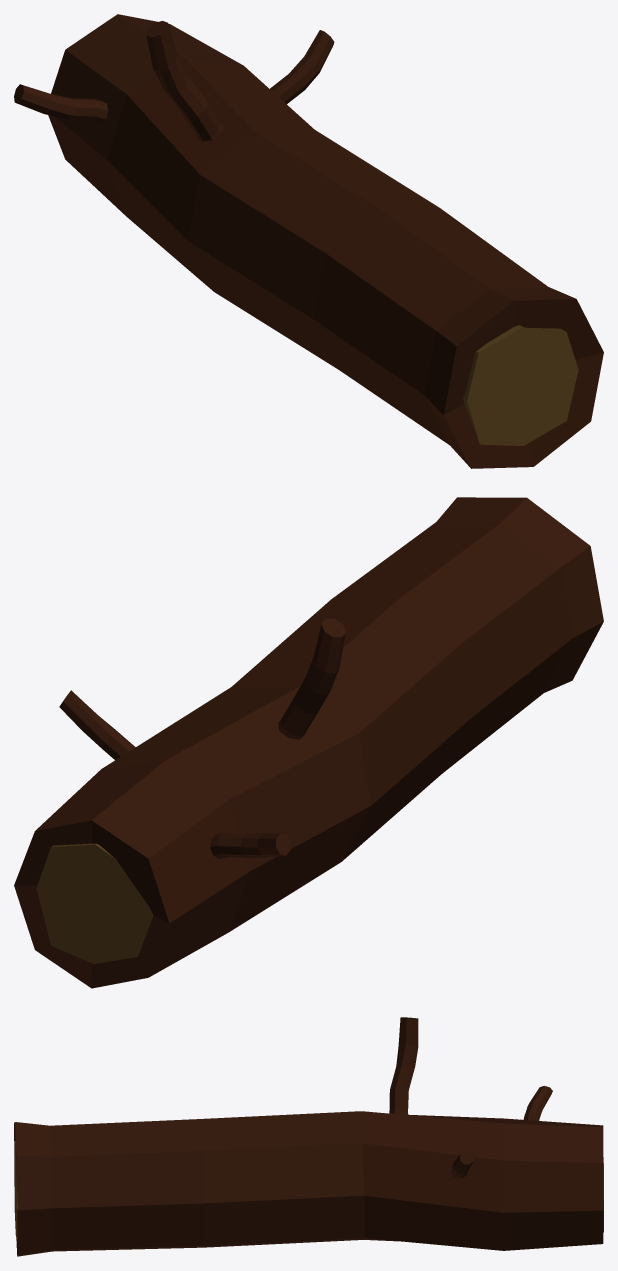
Rendered from Trunk.fbx.
The picture shows the model from 3 angles, top to bottom: view 1: azimuth 30°, elevation 25°; view 2: azimuth 150°, elevation 25°; view 3: azimuth 270°, elevation 25°; orthographic projection. The views are drawn at different scales.
Parts seen in each view (by area): view 1: Cube.001; view 2: Cube.001; view 3: Cube.001.
Part boxes in pixels (bbox=[...]): Cube.001: bbox=[14, 14, 603, 468]; Cube.001: bbox=[14, 497, 603, 988]; Cube.001: bbox=[14, 1017, 603, 1256].
Bounding box in the file's own units: 449 × 449 × 1184.
